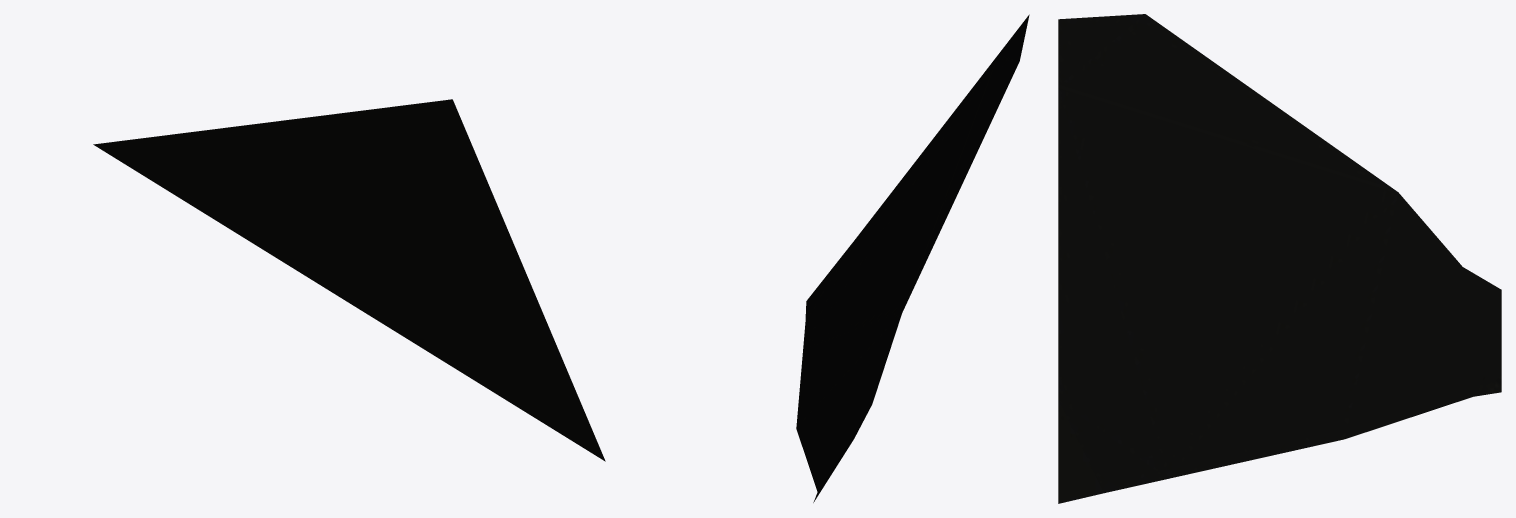
The picture shows the model from 3 angles, left to right: view 1: azimuth 30°, elevation 25°; view 2: azimuth 150°, elevation 25°; view 3: azimuth 270°, elevation 25°; orthographic projection. The views are drawn at different scales.
Size of the model in its own units: 2.1 by 2.7 by 2.95.
Materials: 3 (3 with a texture image).
